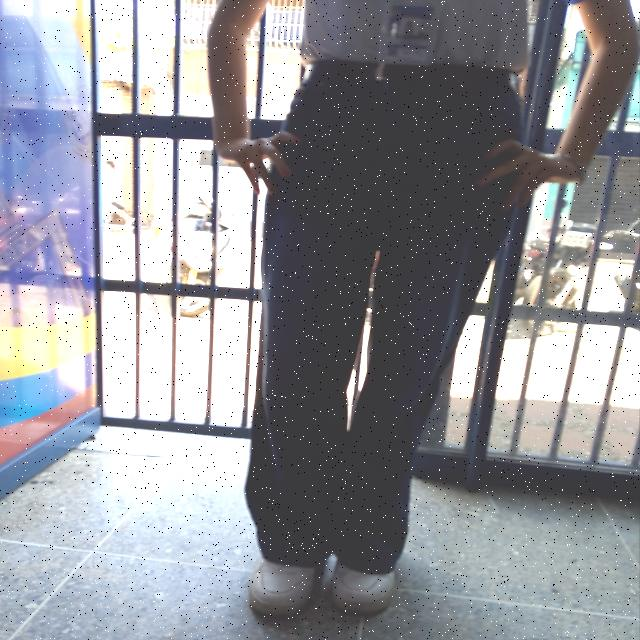carnet: (381, 0, 436, 63)
